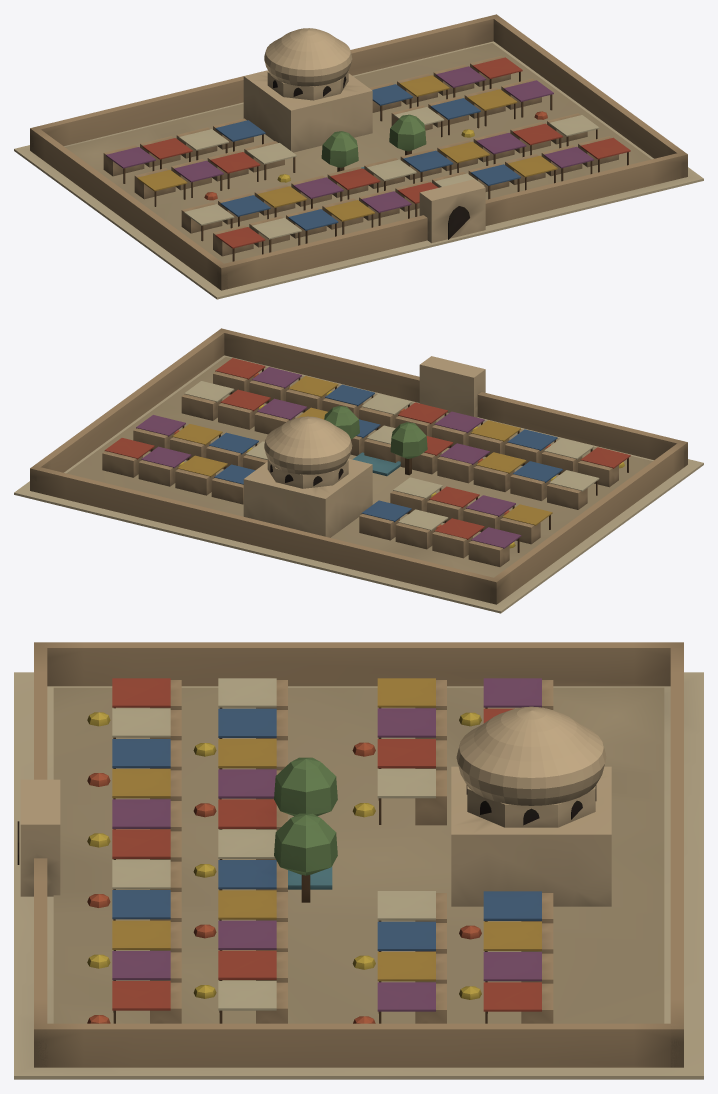
Rendered from siab-bazaar.glb.
3 renders of one model, top to bottom at view 1: azimuth 30°, elevation 25°; view 2: azimuth 150°, elevation 25°; view 3: azimuth 270°, elevation 25°, orthographic. The views are drawn at different scales.
Visible parts, largest first — view 1: p0_market; view 2: p0_market; view 3: p0_market.
Part boxes in pixels (x1,y1,x2,y2): p0_market: (14, 14, 703, 299); p0_market: (14, 328, 703, 613); p0_market: (14, 642, 703, 1079).
Bounding box in the file's own units: 72 × 13.89 × 52.
